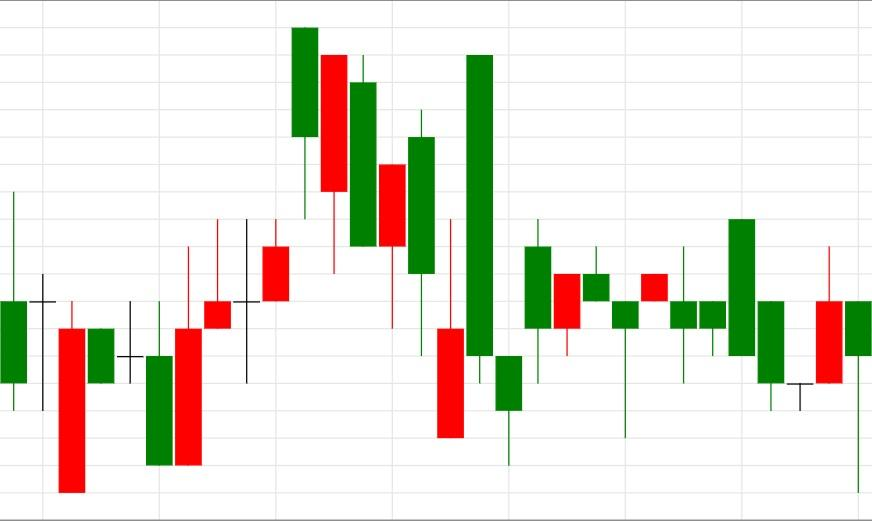bullish_engulfing_rise: (0, 191, 203, 493)
morning_star_rise: (640, 218, 844, 411)
